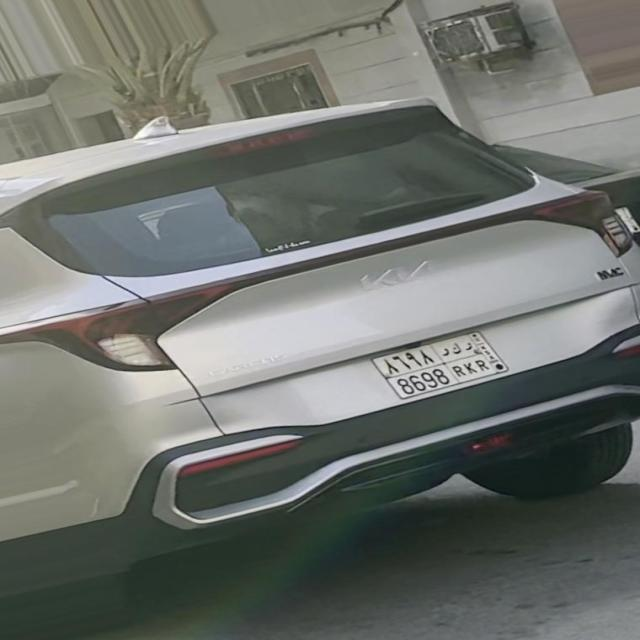Car-plate: (350, 314, 558, 415)
